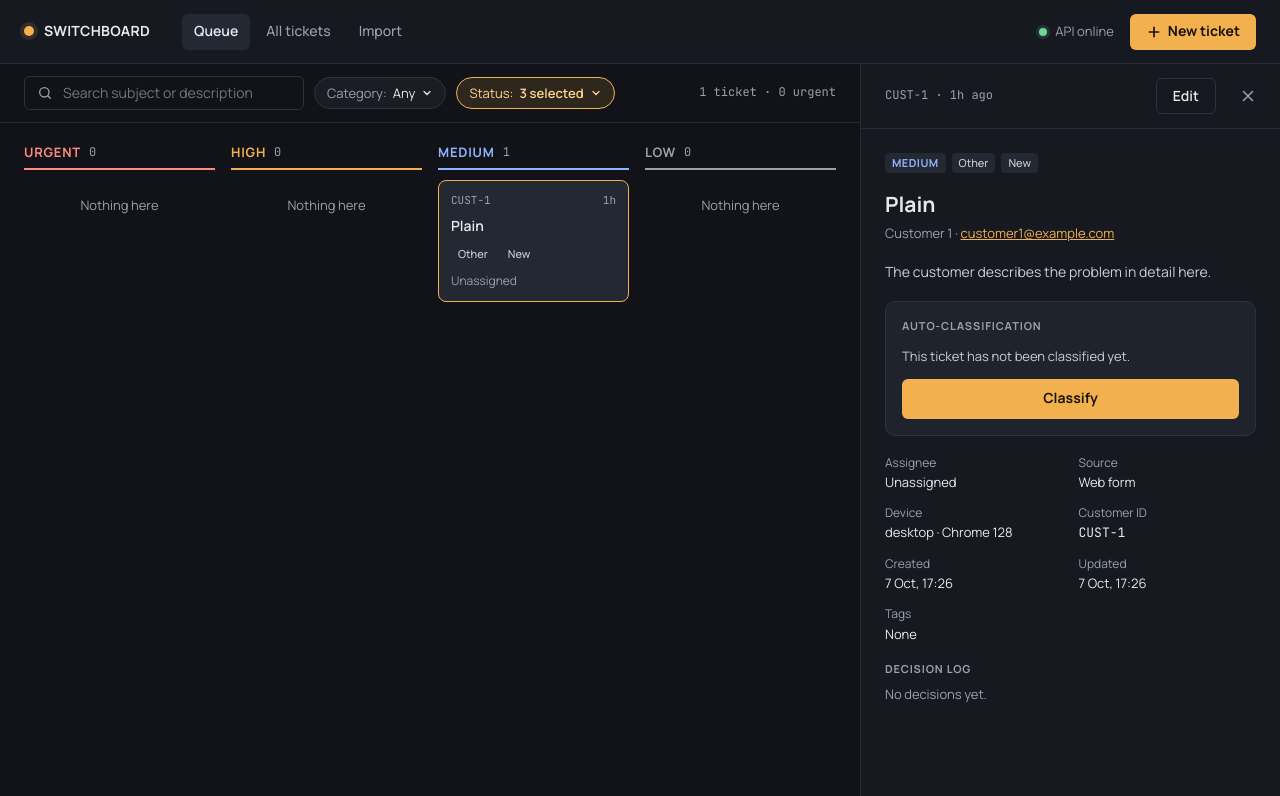
Editing and deleting › saves a non-classification change with a plain message
This screenshot has width=1280, height=796.
Click the button "Edit".
click(1186, 96)  # box [1156,78,1216,114]
(page scrolled)
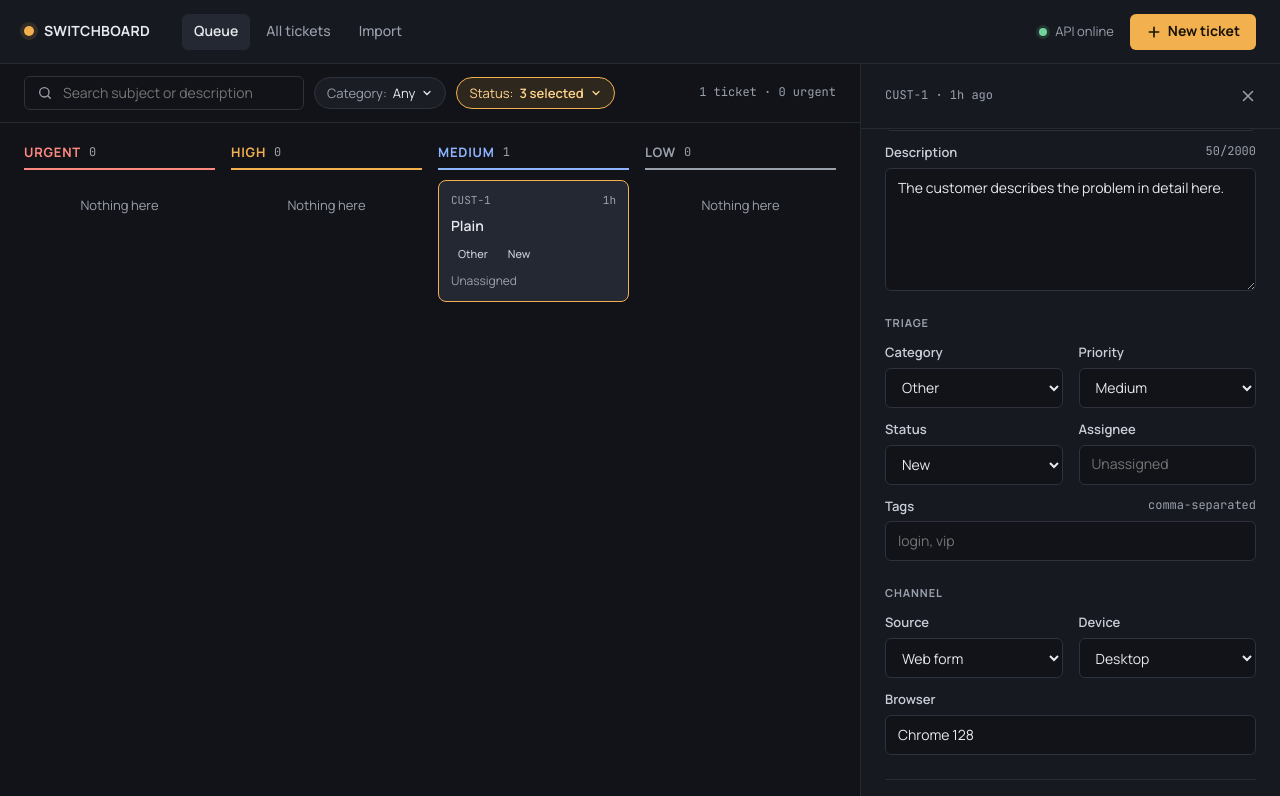
Select "In progress" in the dropdown labelled "Status" at (974, 464), box [885,444,1062,484]
(page scrolled)
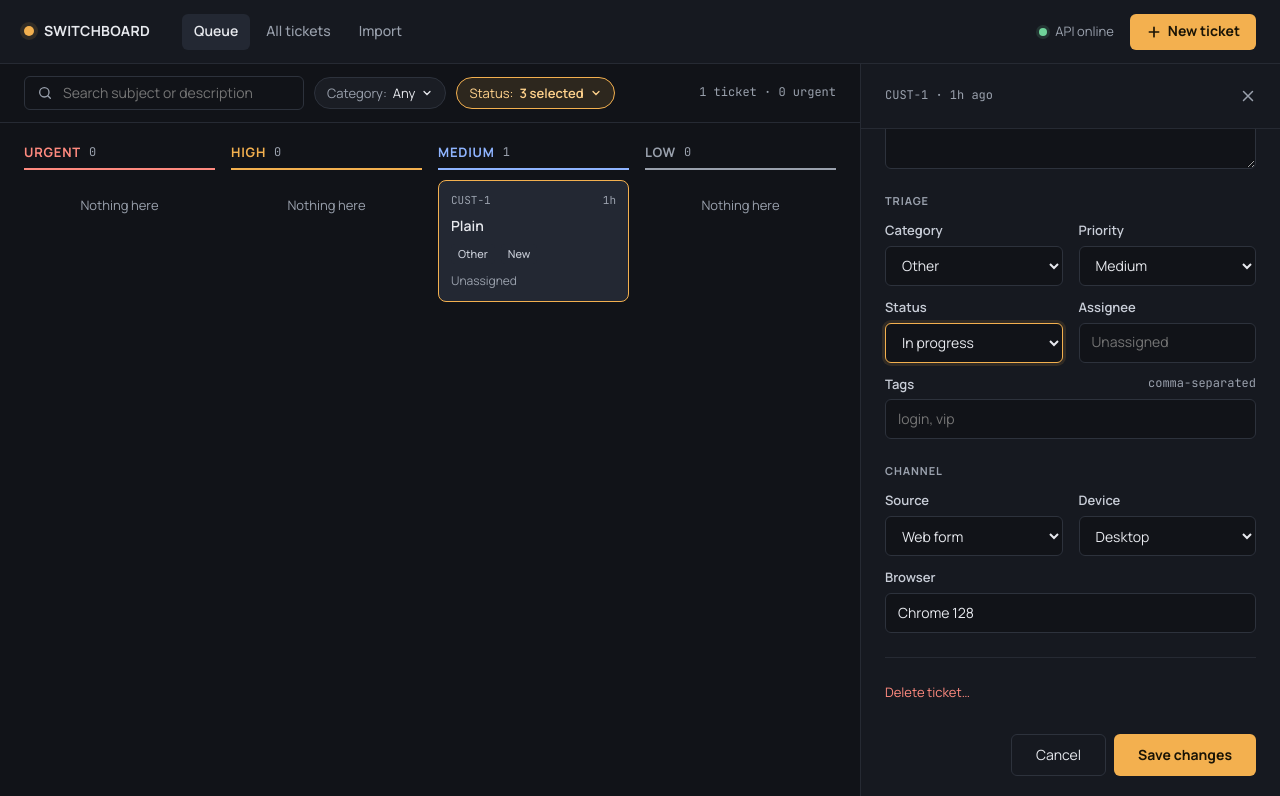
Click the button "Save changes".
click(1185, 755)  # box [1114,734,1256,776]
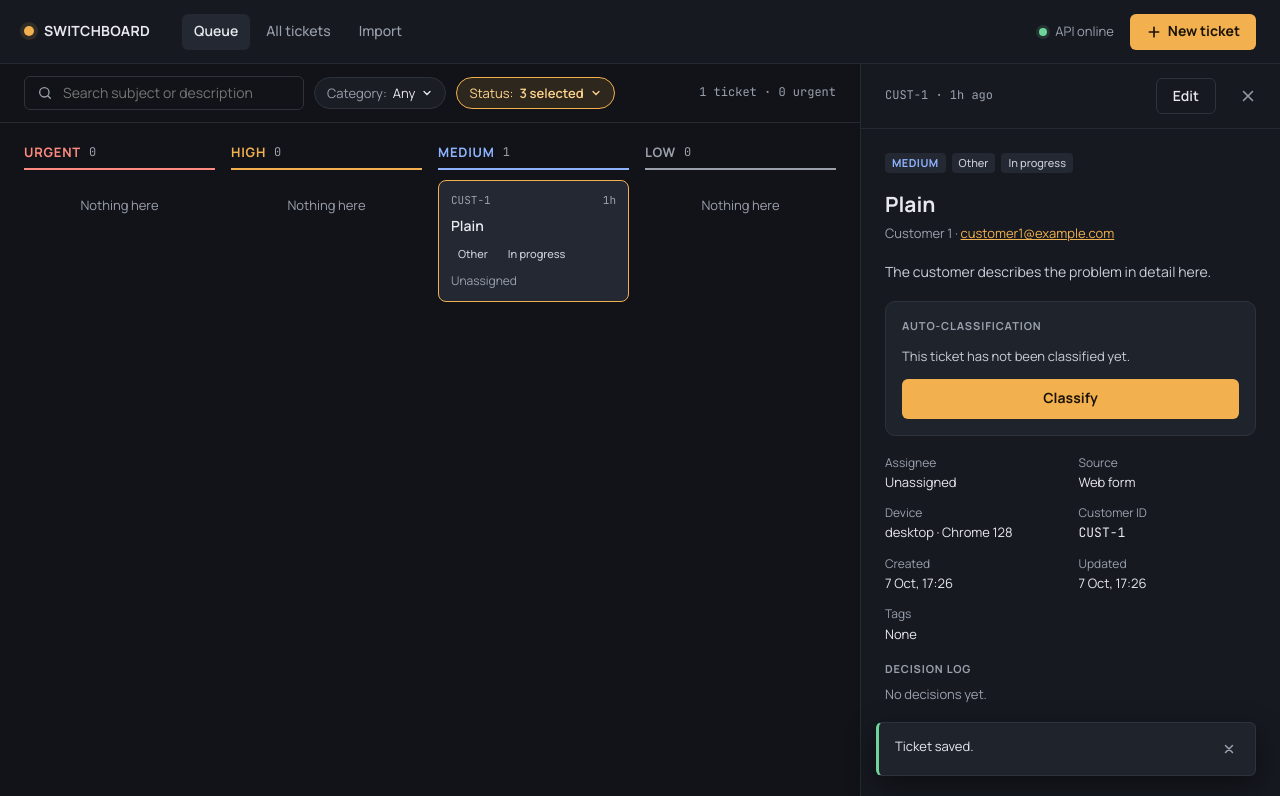
Now the text "Ticket saved." is shown, box [895,737,973,755]
